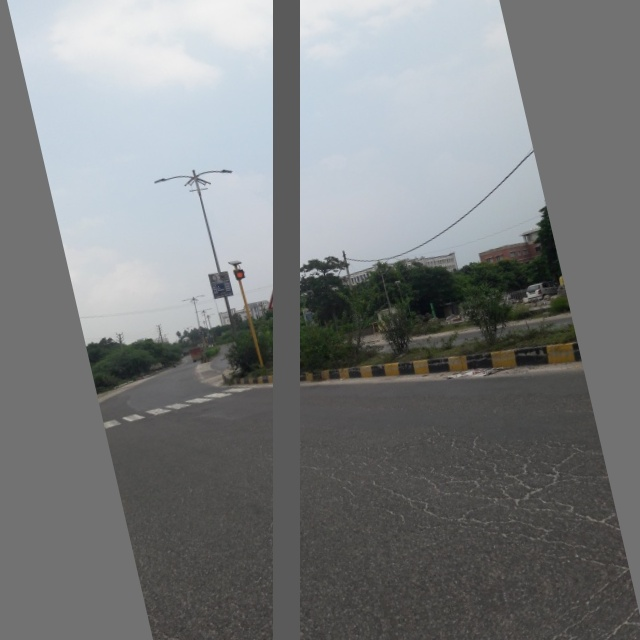Gap_in_Median: (259, 277, 296, 316)
